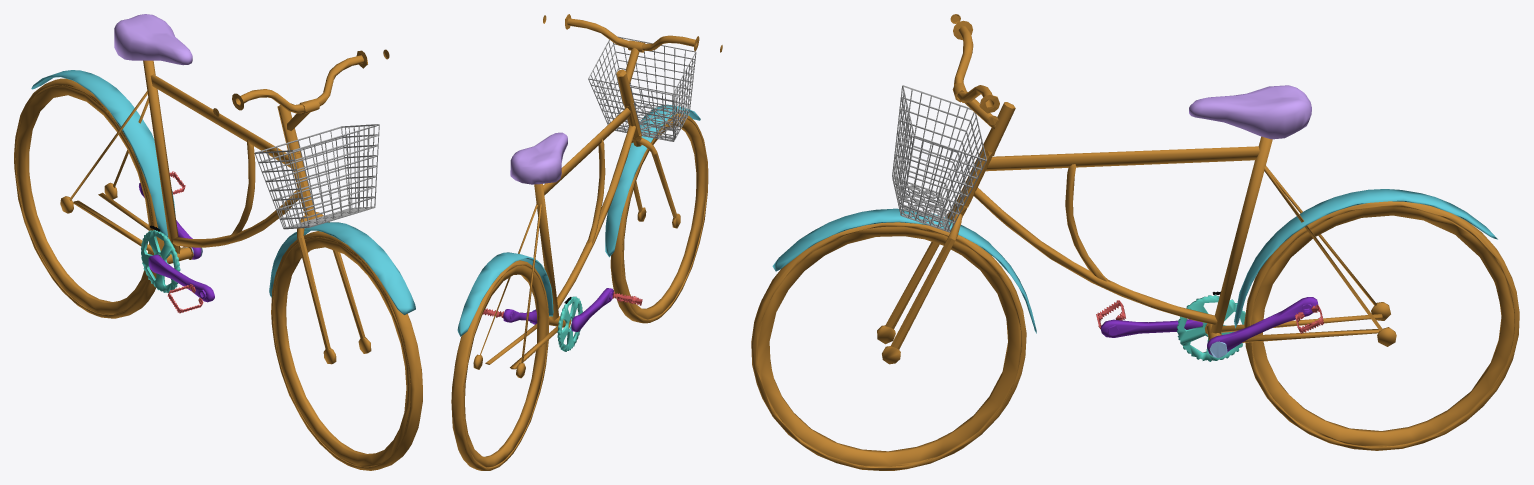
File: lowpolycycle3.fbx
The picture shows the model from 3 angles, left to right: view 1: azimuth 30°, elevation 25°; view 2: azimuth 150°, elevation 25°; view 3: azimuth 270°, elevation 25°; orthographic projection. The views are drawn at different scales.
Visible parts, largest first — view 1: Line003; view 2: Line003; view 3: Line003.
Part boxes in pixels (x1,y1,x2,y2): Line003: (14,14,422,470); Line003: (451,14,722,470); Line003: (751,14,1519,470).
Size of the model in its own units: 998 by 1836 by 3136.
